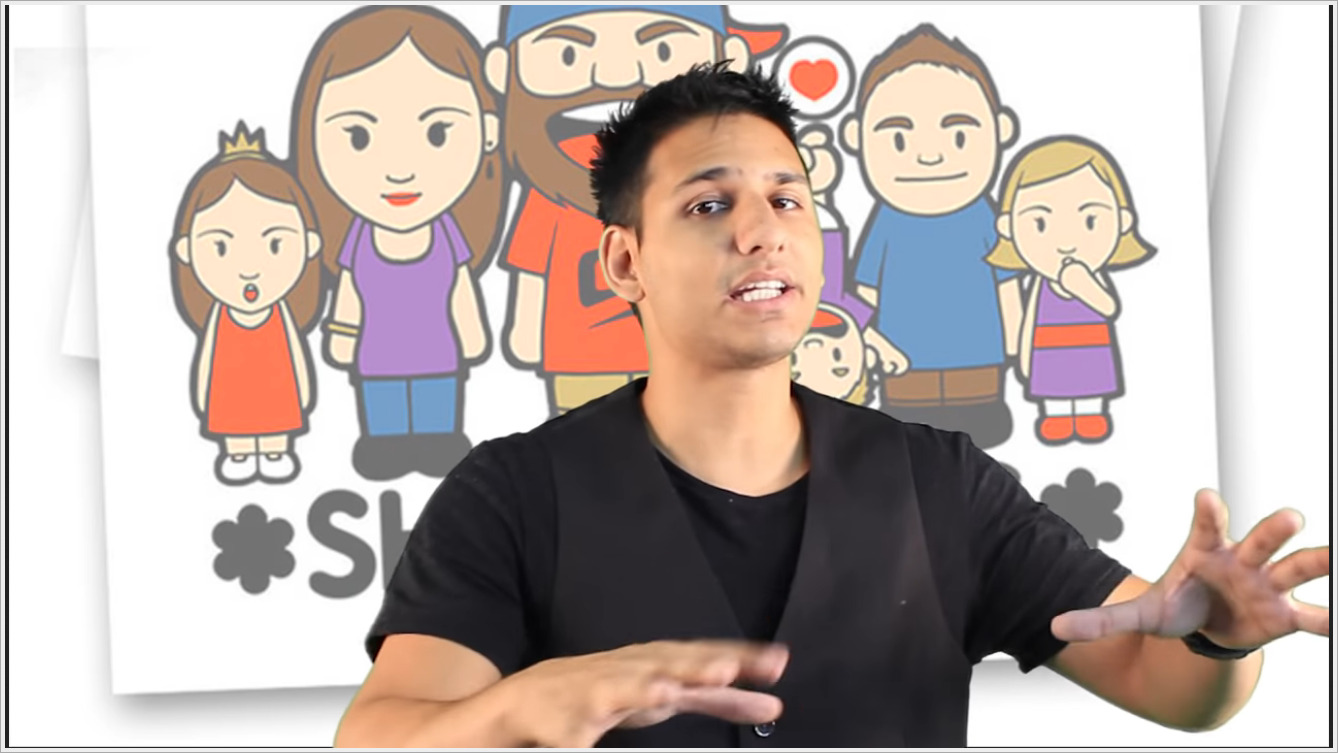hand: (1034, 472, 1327, 682), (486, 641, 806, 747)
